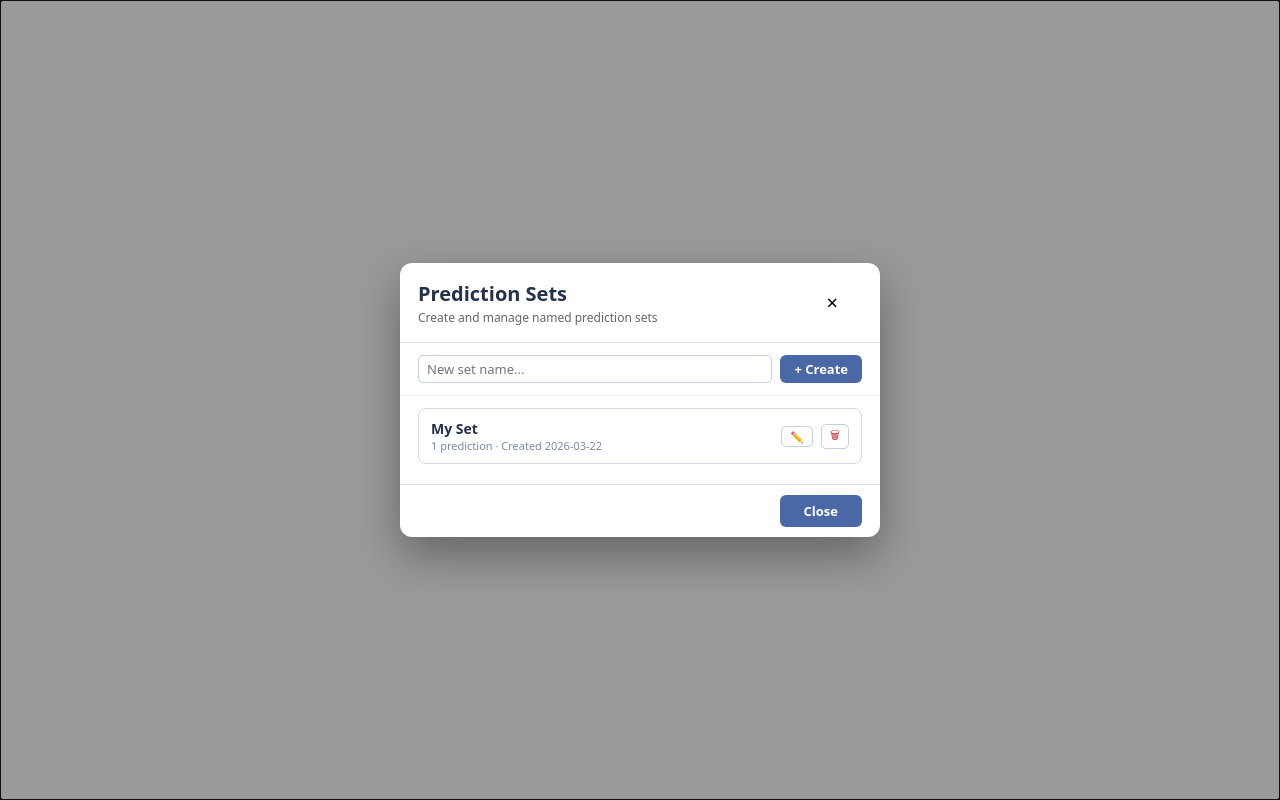
PredictionsPanel › renders conditions with type and description
Click the text "My Set". click: (454, 428)
box: x1=431 y1=419 x2=478 y2=438
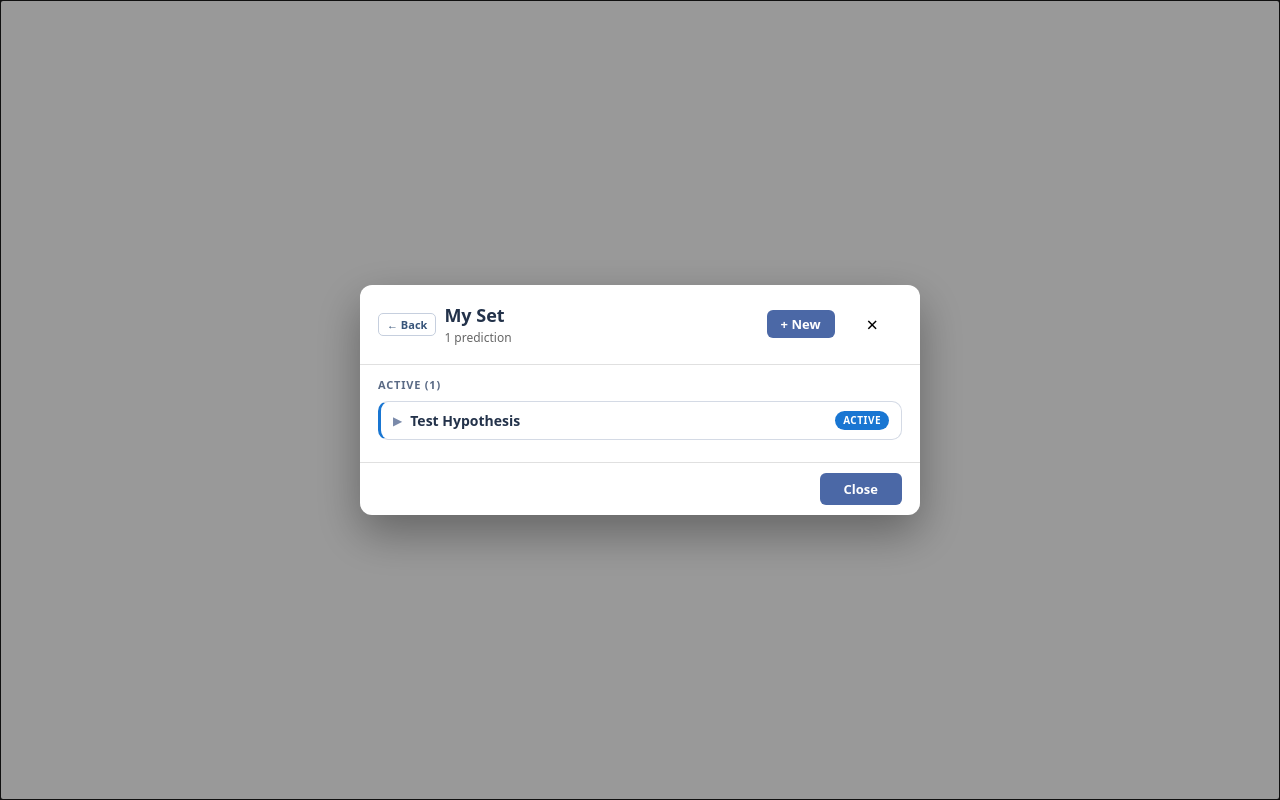
Click the text "Test Hypothesis". click: (465, 421)
box: x1=410 y1=411 x2=520 y2=430
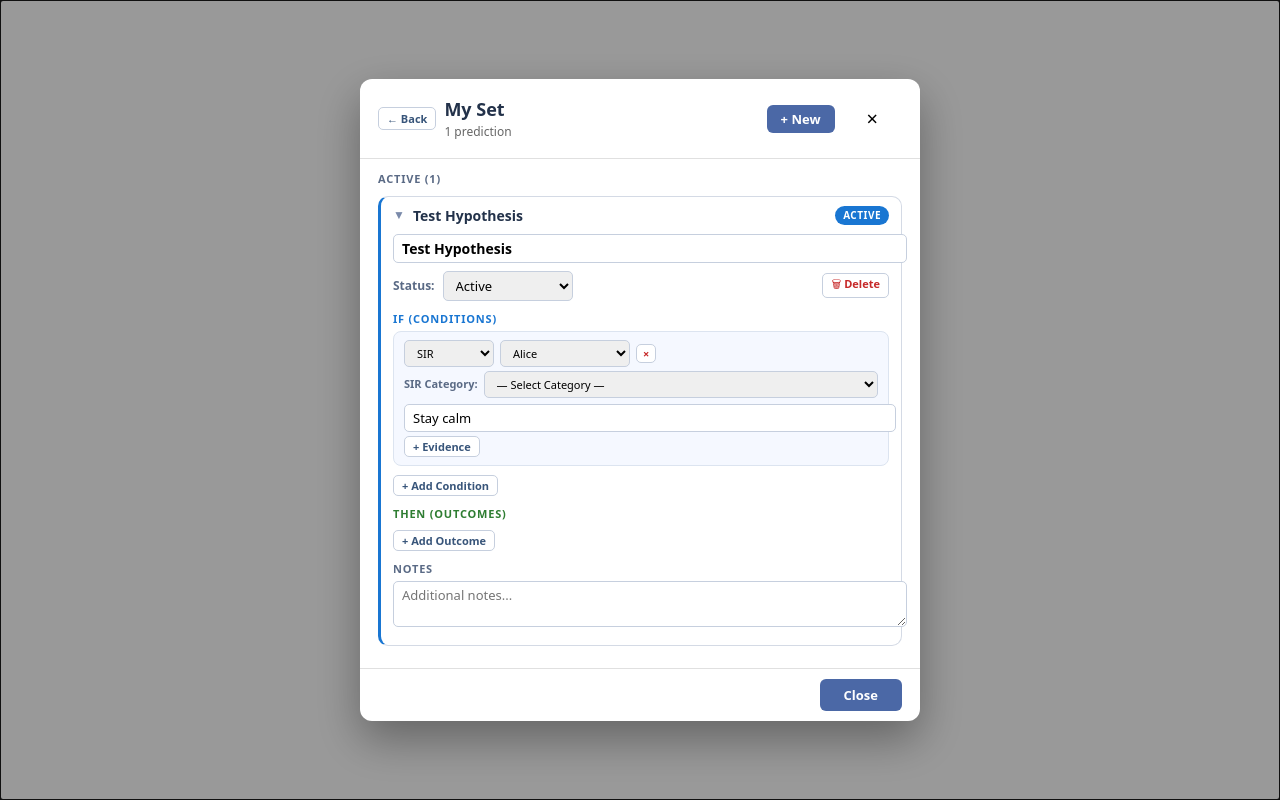
Expected: the field below "SIR Category:" is shown, x1=404 y1=404 x2=896 y2=432
